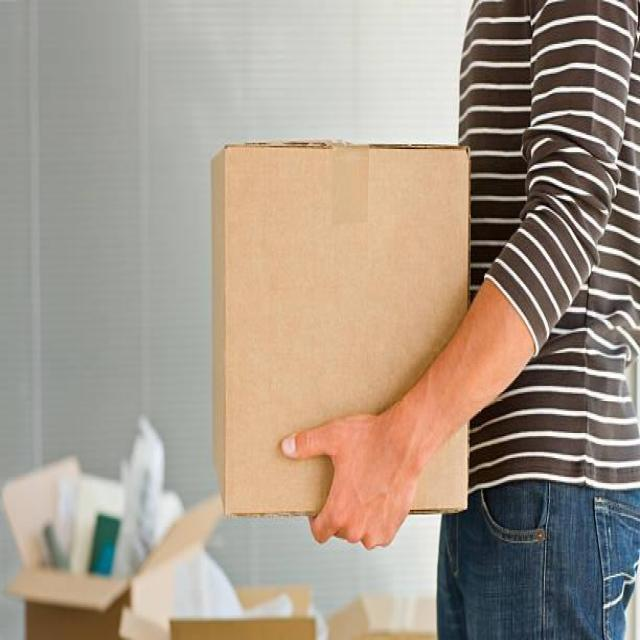box: (203, 125, 485, 527)
